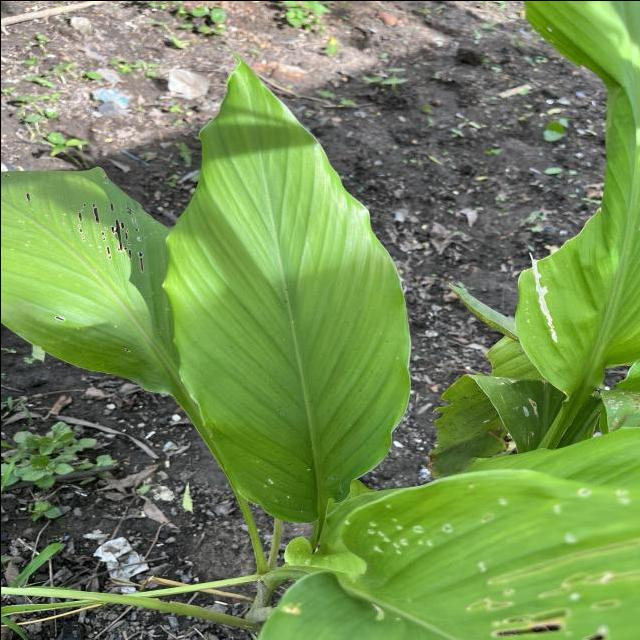Curcuma longa: (154, 40, 420, 533)
